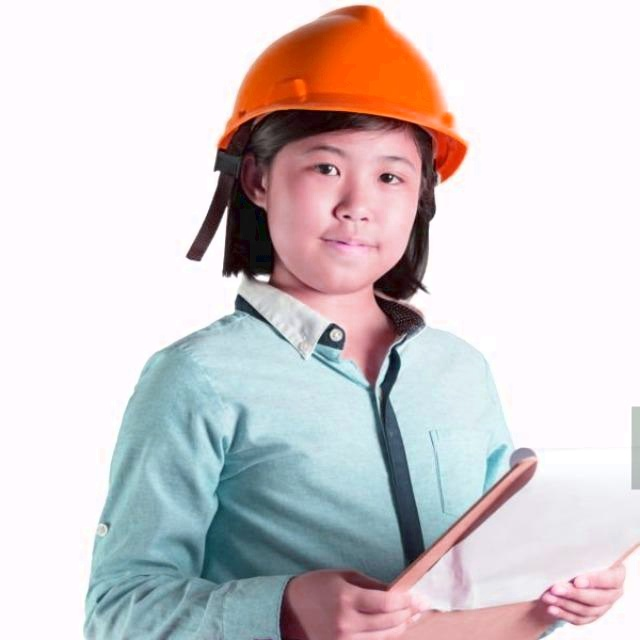Con_Casco: (212, 3, 469, 293)
Sin_Chaleco: (137, 302, 507, 640)
